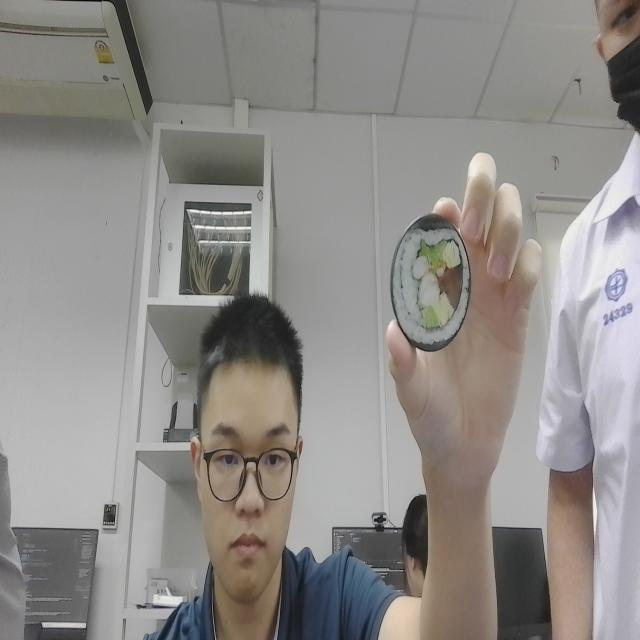sushi: (384, 204, 475, 359)
